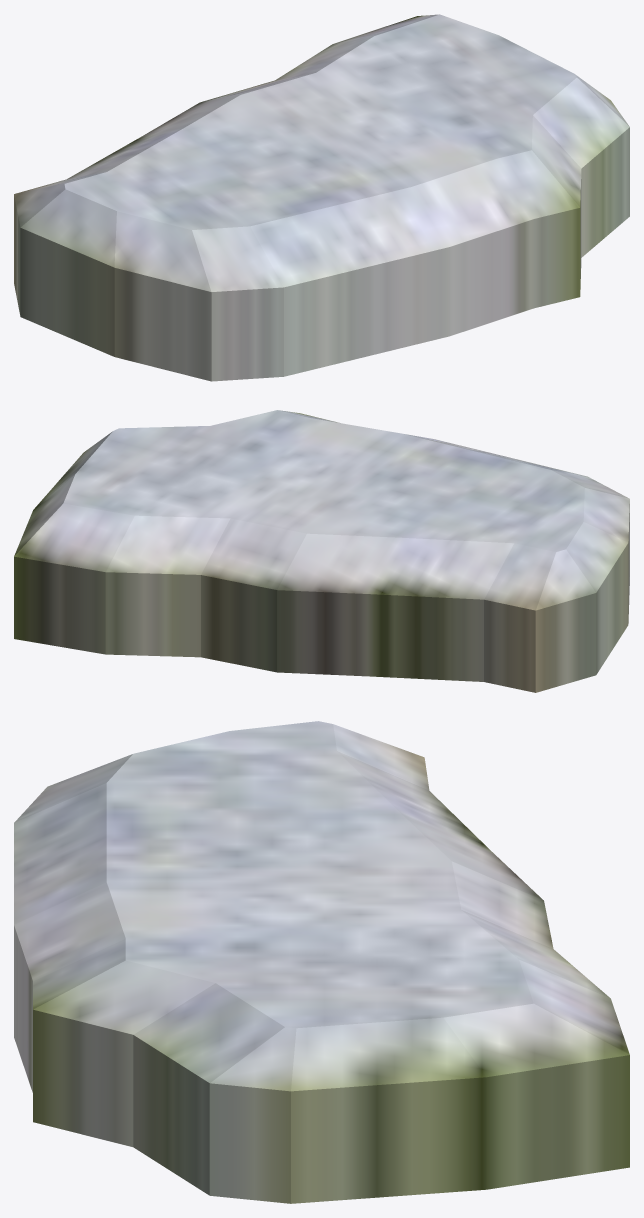
File: stone.24.fbx
The picture shows the model from 3 angles, top to bottom: view 1: azimuth 30°, elevation 25°; view 2: azimuth 150°, elevation 25°; view 3: azimuth 270°, elevation 25°; orthographic projection. The views are drawn at different scales.
Parts seen in each view (by area): view 1: stone.24; view 2: stone.24; view 3: stone.24.
Part boxes in pixels (<box>): stone.24: <box>14,14,629,381</box>; stone.24: <box>14,410,629,692</box>; stone.24: <box>14,721,629,1203</box>.
Size of the model in its own units: 47.59 by 9.74 by 35.18.
1 material, 1 textured.
